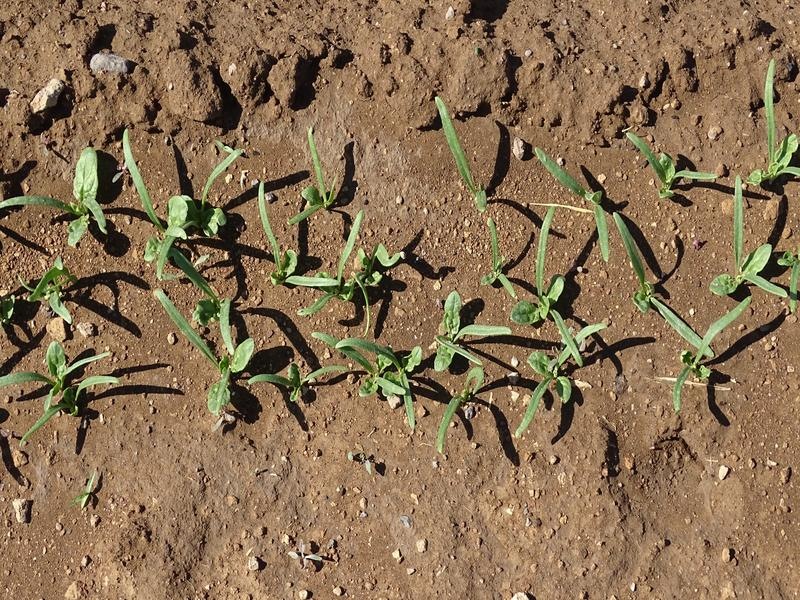Espinaca: (23, 134, 800, 450)
